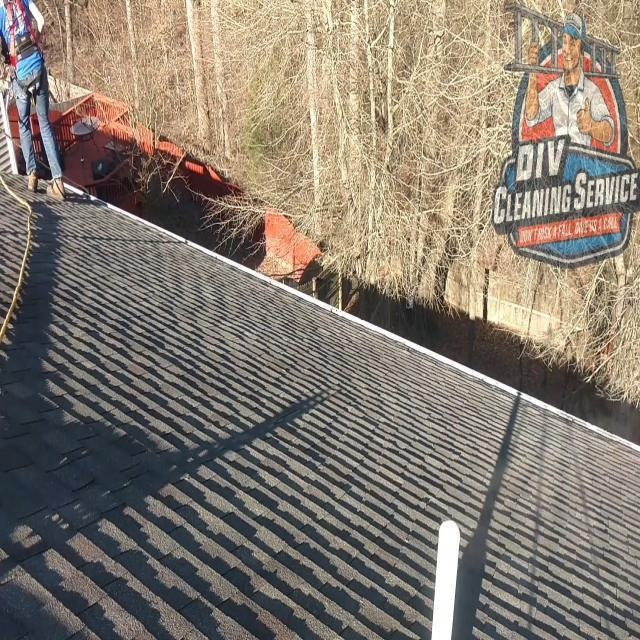Arnes_seguridad: (1, 0, 46, 100)
